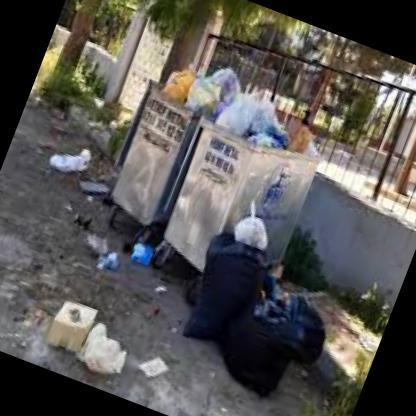Garbage: (164, 234, 350, 415), (39, 296, 140, 385), (76, 229, 127, 279), (226, 212, 274, 260), (44, 144, 96, 182), (136, 352, 169, 386), (126, 237, 156, 270)
